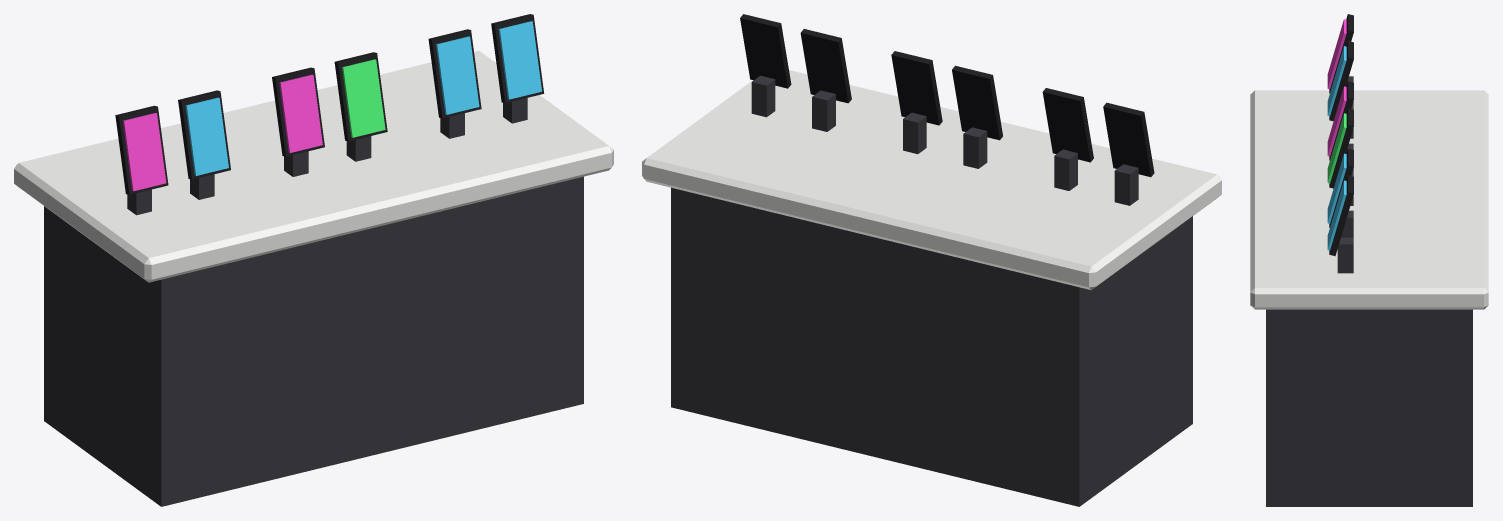
The model's file is PhoneTable.fbx.
The picture shows the model from 3 angles, left to right: view 1: azimuth 30°, elevation 25°; view 2: azimuth 150°, elevation 25°; view 3: azimuth 270°, elevation 25°; orthographic projection. The views are drawn at different scales.
Parts seen in each view (by area): view 1: PhoneTable; view 2: PhoneTable; view 3: PhoneTable.
Part boxes in pixels (bbox=[...]): PhoneTable: bbox=[14, 14, 613, 506]; PhoneTable: bbox=[642, 14, 1221, 506]; PhoneTable: bbox=[1250, 14, 1488, 506].
Bounding box in the file's own units: 6 × 4.35 × 3.
Materials: 1 (1 with a texture image).
